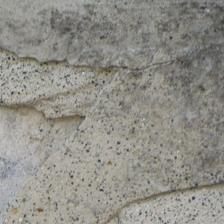Crack: (0, 12, 131, 213), (114, 25, 224, 144), (59, 0, 125, 128), (0, 4, 105, 50)
